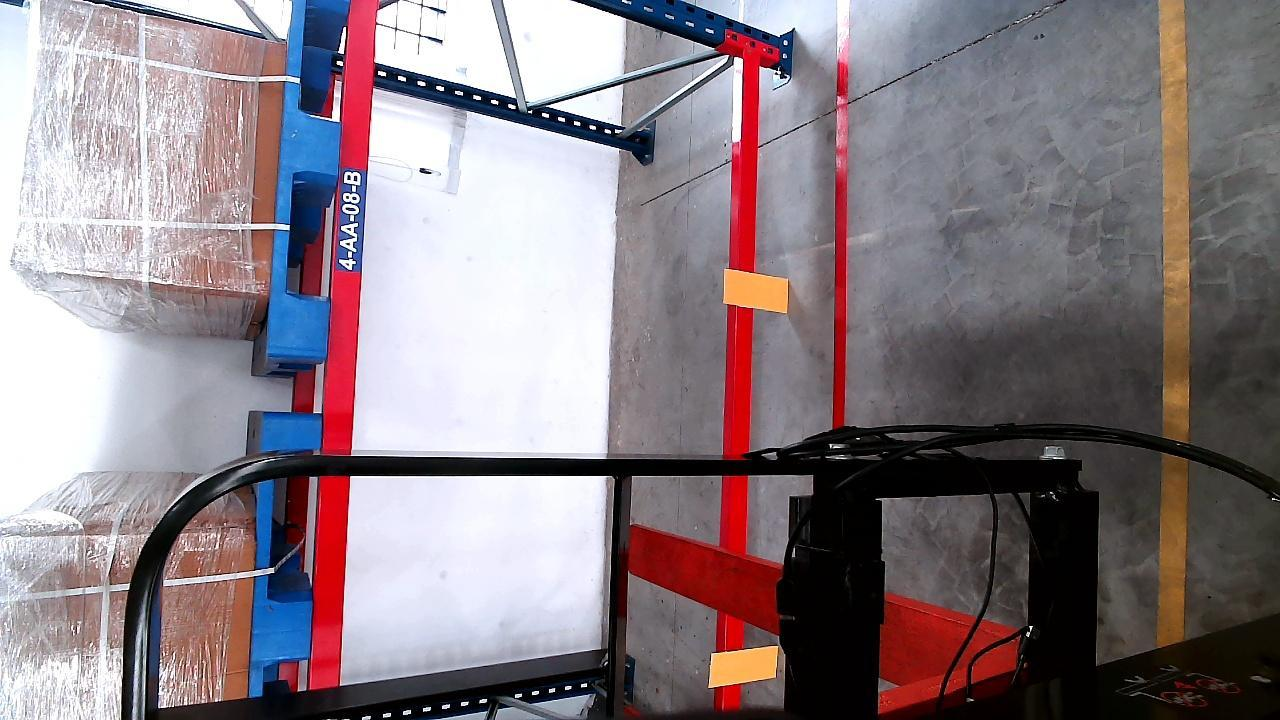red_line: (829, 19, 855, 431)
yellow_line: (1160, 0, 1195, 647)
